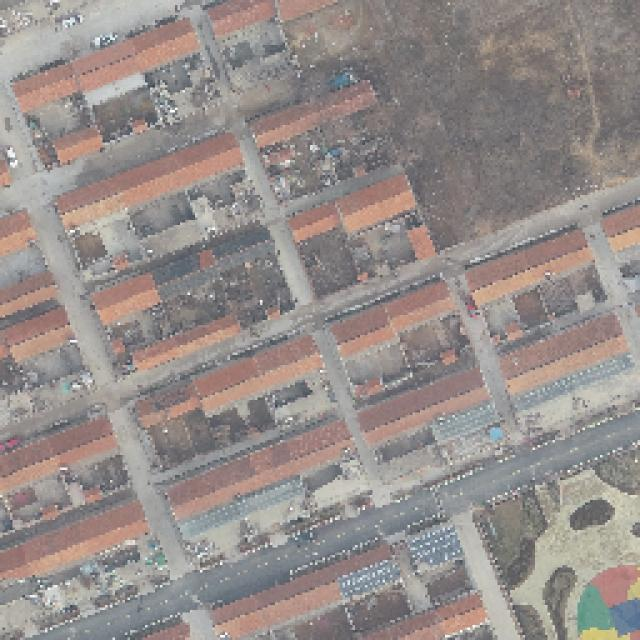Batiment: (168, 422, 352, 519), (139, 335, 319, 427), (0, 490, 147, 578), (465, 228, 592, 306), (501, 316, 627, 394), (361, 369, 486, 444), (332, 284, 452, 357), (333, 284, 452, 357), (76, 22, 198, 92), (1, 421, 114, 493), (251, 83, 376, 147), (133, 315, 240, 371), (336, 174, 415, 232), (0, 306, 80, 362), (92, 272, 161, 324), (12, 64, 80, 112), (208, 1, 274, 37), (2, 273, 54, 317), (289, 202, 340, 242), (601, 204, 640, 251), (0, 211, 36, 256), (406, 224, 436, 259), (198, 249, 216, 269)
